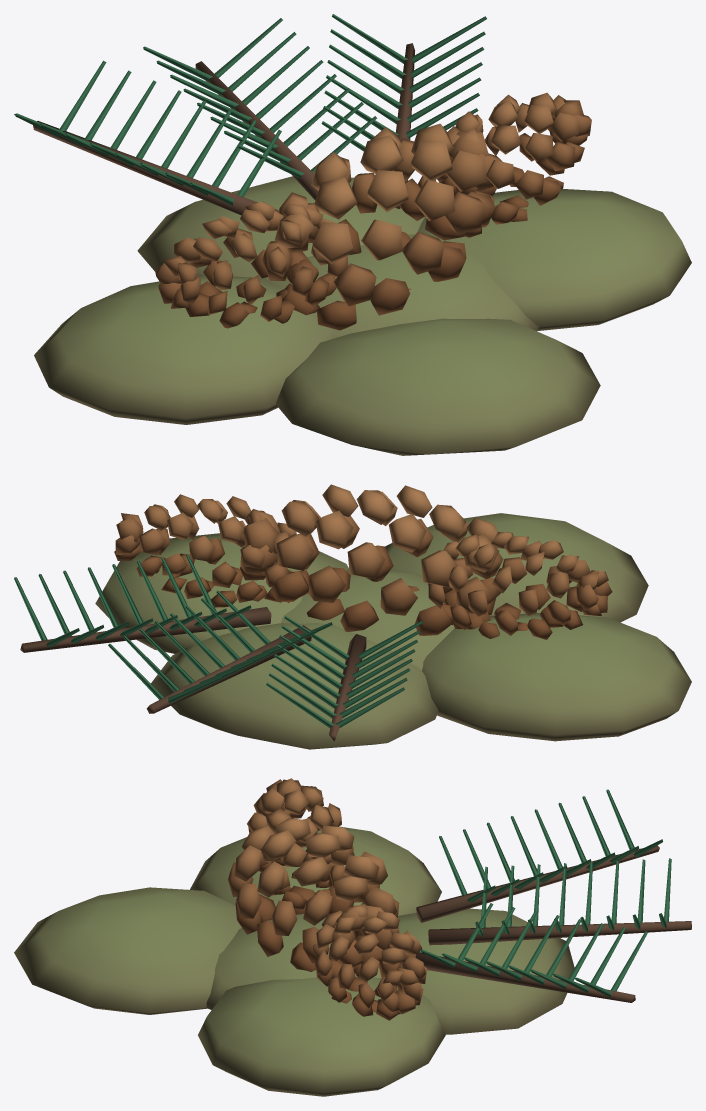
The model's file is ing_pine_needles.glb.
3 views of the same model, one above another, from view 1: azimuth 30°, elevation 25°; view 2: azimuth 150°, elevation 25°; view 3: azimuth 270°, elevation 25° (orthographic). The views are drawn at different scales.
Parts seen in each view (by area): view 1: ing_pine_needles; view 2: ing_pine_needles; view 3: ing_pine_needles.
Part boxes in pixels (bbox=[...]): ing_pine_needles: bbox=[14, 14, 691, 455]; ing_pine_needles: bbox=[14, 484, 691, 749]; ing_pine_needles: bbox=[14, 778, 691, 1096].
Size of what is drawn, in the model's own units: 0.4511 by 0.1222 by 0.4952.
